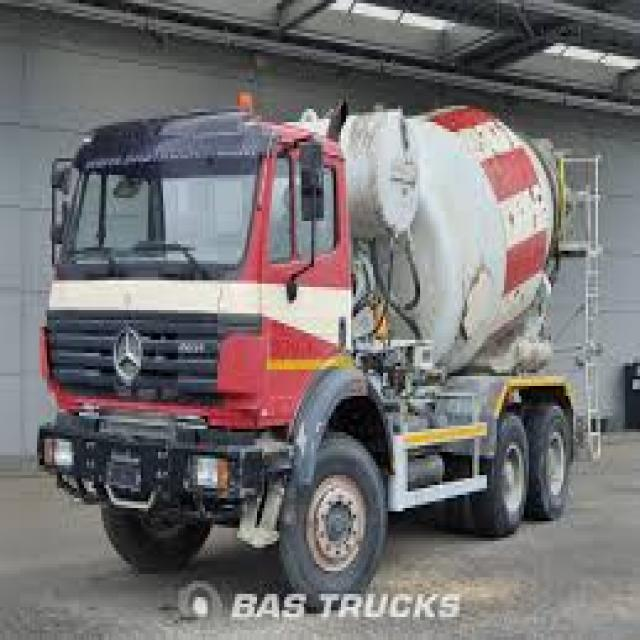Mixer Truck: (35, 86, 604, 612)
